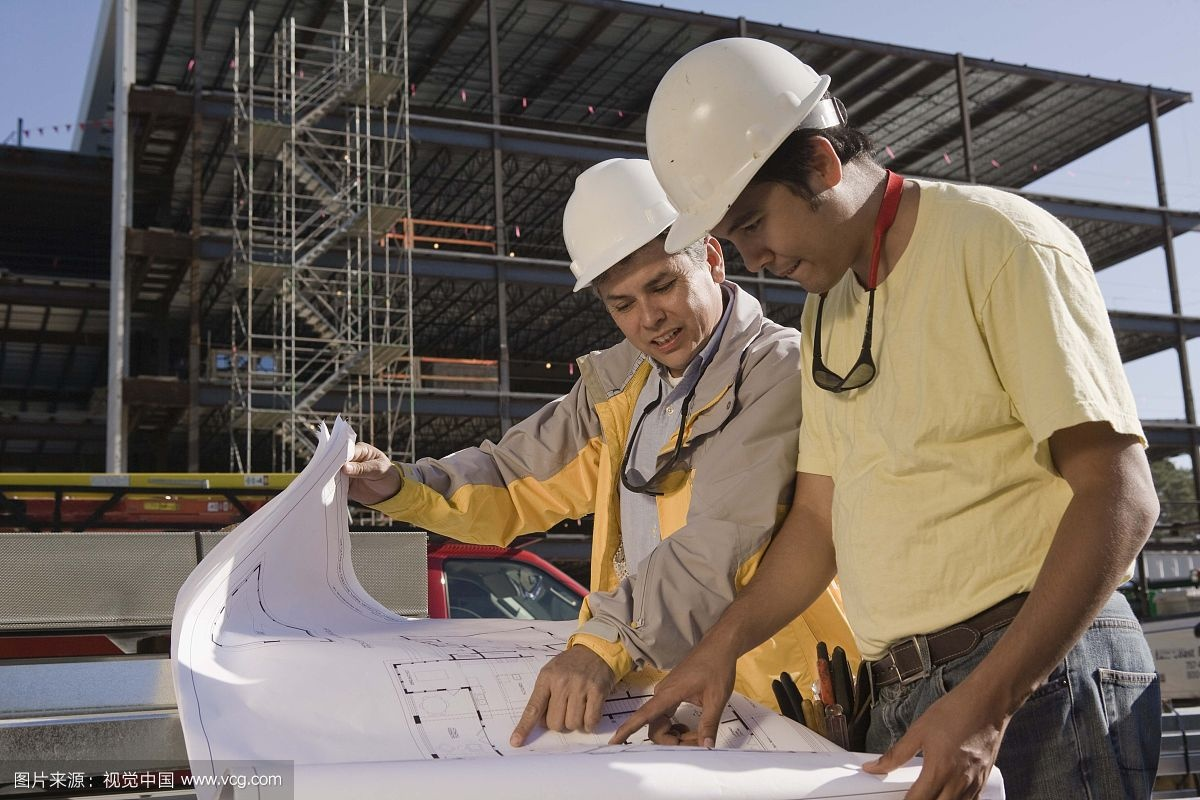white: (651, 35, 882, 301), (557, 154, 731, 366)
